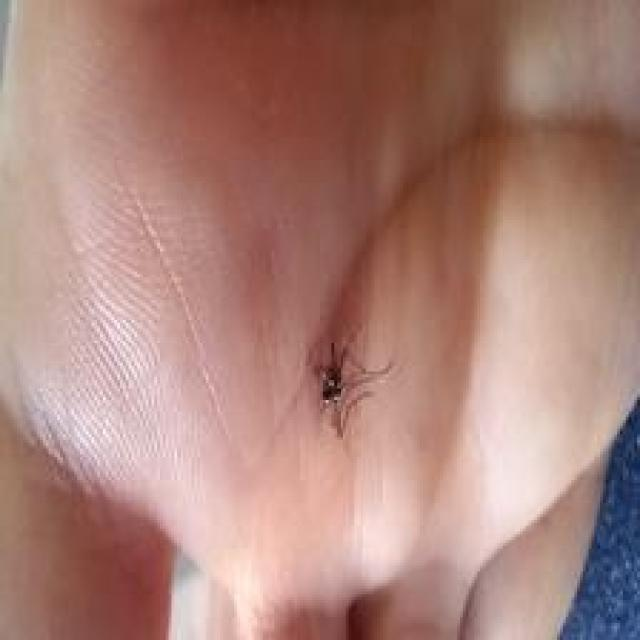Aedes albopictus: (304, 333, 393, 438)
